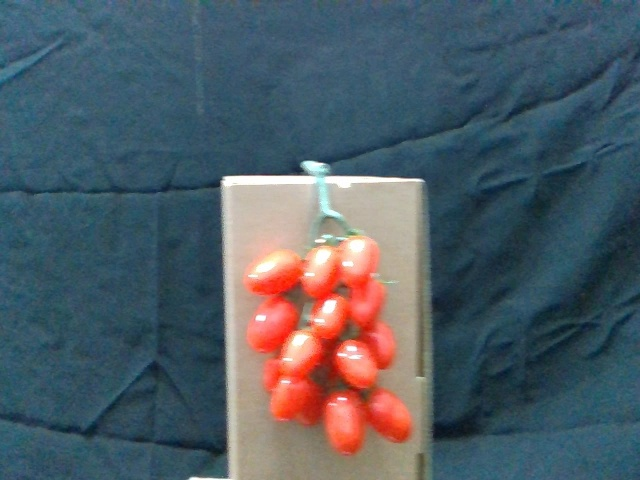tomato: (249, 299, 300, 357), (245, 248, 304, 297), (326, 393, 369, 455), (368, 386, 411, 445), (301, 245, 345, 302), (281, 372, 325, 428), (281, 331, 329, 381), (341, 233, 381, 288), (336, 341, 379, 392), (348, 280, 386, 332), (361, 318, 399, 370), (310, 295, 349, 344)
